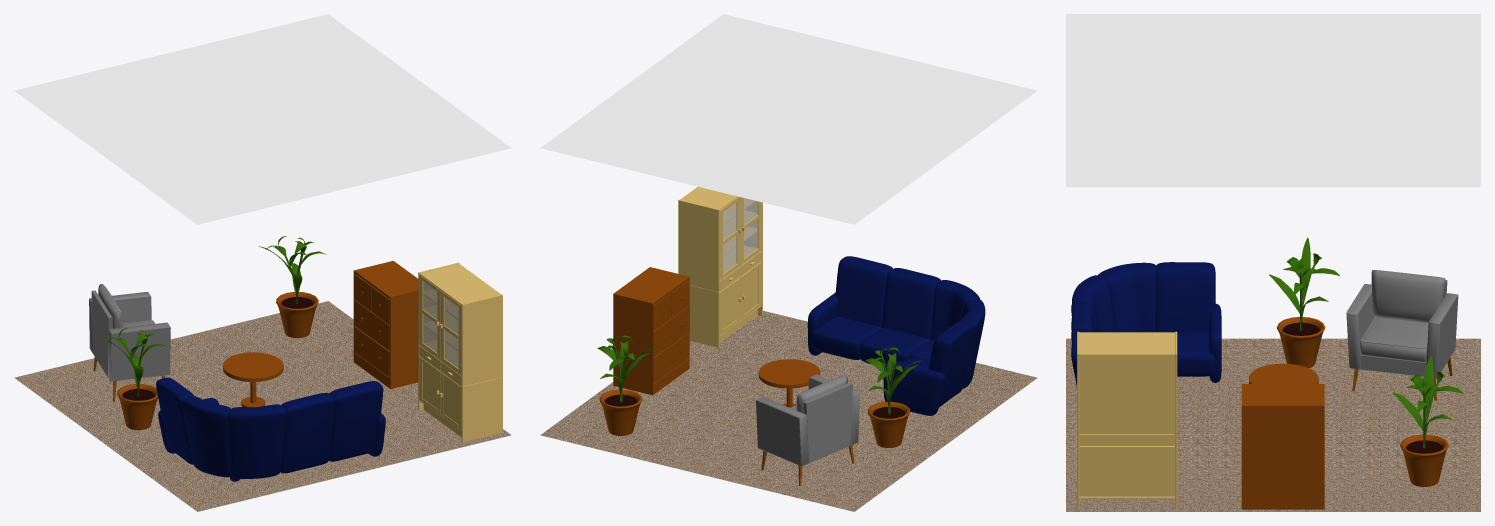
File: Sala.obj
3 views of the same model, side by side, from view 1: azimuth 30°, elevation 25°; view 2: azimuth 150°, elevation 25°; view 3: azimuth 270°, elevation 25° (orthographic). The views are drawn at different scales.
Parts seen in each view (by area): view 1: room_1_2, room_1_1, UpperCabinet_87, Corps_101, 12, 19, 13, 15, LowerCabinet_83, LeftShoulder_10, 16, Plateau_20 (+13 smaller); view 2: room_1_2, room_1_1, Corps_101, 13, UpperCabinet_87, 19, Bottom_8, 16, LowerCabinet_83, Accoudoir_1_17, RightShoulder_3, 12 (+15 smaller); view 3: room_1_2, room_1_1, UpperCabinet_87, Corps_101, 16, LowerCabinet_83, Pillow_6, 15, Seat_7, Pot_16_75, Pot_16_46, 12 (+8 smaller).
Boxes of the visible parts, box(x1,y1,x2,y2) form: room_1_2: box(14, 14, 511, 224); room_1_1: box(14, 301, 511, 511); UpperCabinet_87: box(418, 262, 502, 386); Corps_101: box(353, 260, 418, 388); 12: box(227, 404, 286, 478); 19: box(280, 392, 334, 473); 13: box(329, 381, 383, 461); 15: box(182, 396, 231, 477); LowerCabinet_83: box(418, 354, 502, 442); LeftShoulder_10: box(111, 327, 170, 380); 16: box(156, 377, 194, 464); Plateau_20: box(223, 352, 283, 381); room_1_2: box(540, 14, 1037, 224); room_1_1: box(540, 310, 1037, 511); Corps_101: box(613, 267, 689, 395); 13: box(811, 256, 892, 359); UpperCabinet_87: box(678, 187, 762, 291); 19: box(859, 268, 940, 363); Bottom_8: box(803, 382, 852, 463); 16: box(902, 320, 973, 406); LowerCabinet_83: box(689, 260, 762, 347); Accoudoir_1_17: box(883, 361, 945, 415); RightShoulder_3: box(756, 400, 800, 465); 12: box(908, 280, 980, 358); room_1_2: box(1066, 14, 1480, 187); room_1_1: box(1066, 338, 1480, 511); UpperCabinet_87: box(1077, 331, 1177, 446); Corps_101: box(1241, 384, 1324, 509); 16: box(1155, 262, 1215, 376); LowerCabinet_83: box(1077, 446, 1177, 509); Pillow_6: box(1371, 270, 1445, 323); 15: box(1098, 262, 1155, 332); Seat_7: box(1360, 317, 1428, 362); Pot_16_75: box(1400, 434, 1448, 486); Pot_16_46: box(1276, 317, 1325, 368); 12: box(1072, 275, 1114, 332).
Size of the model in its own units: 286 by 250 by 290.
Materials: 11 (1 with a texture image).
